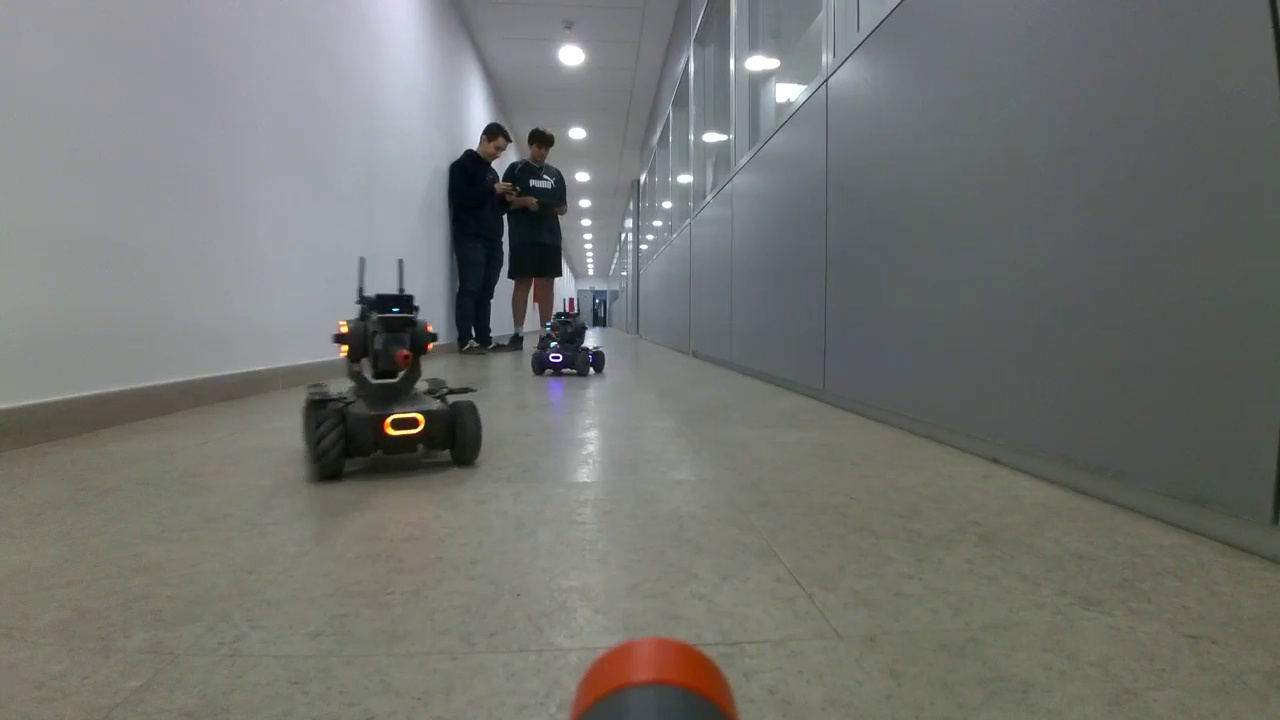robot: (301, 293, 484, 483), (531, 310, 606, 377)
